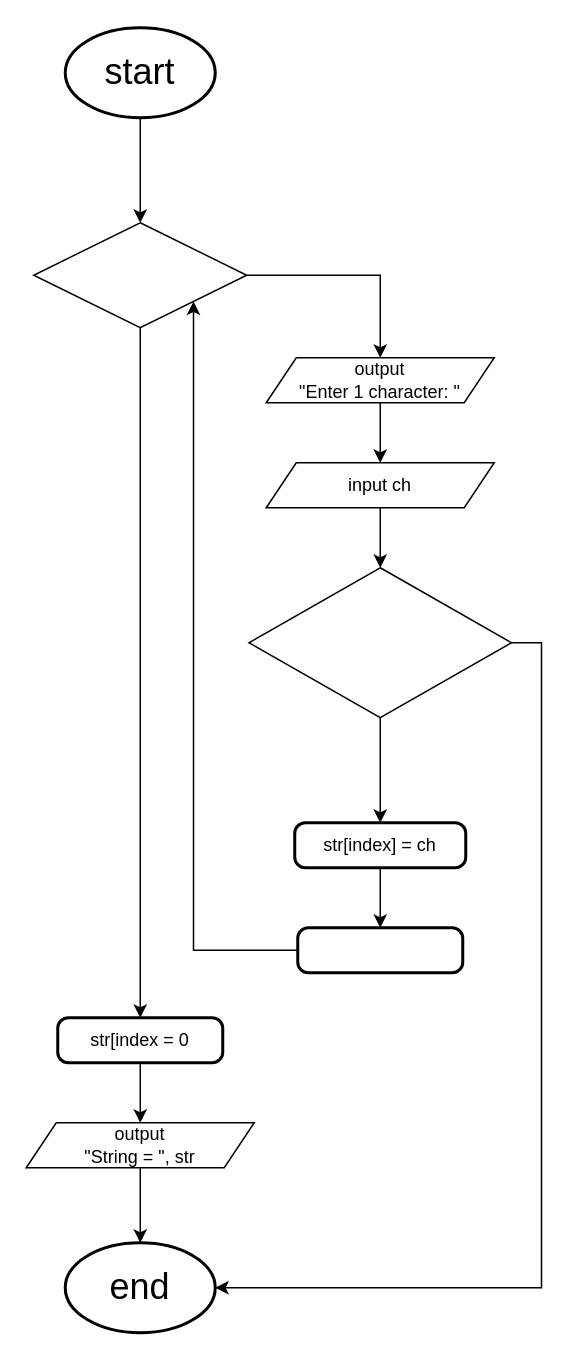
This 581x1359 diagram has some shape labels left out. Here are the shapes that lost their labels. From the top down, the box of each, then its label:
(32, 221, 247, 328): while (1)
(248, 566, 512, 718): if ( ch == "Y" || ch == "y")
(296, 926, 464, 974): index++
